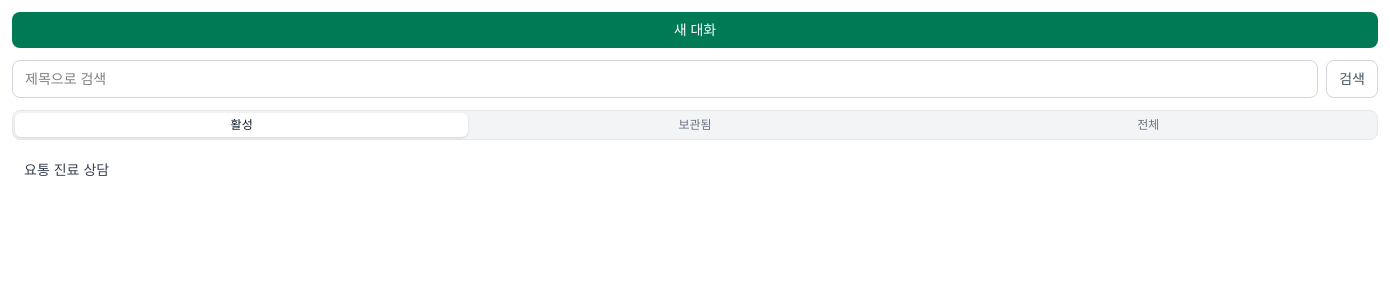
Test: ConversationList docs/specs/11 개정 수용 기준 6~9 › 기준 7: 선택한 대화의 이름을 변경한다
Click the button "요통 진료 상담": (67, 170) left=12, top=152, right=1378, bottom=188
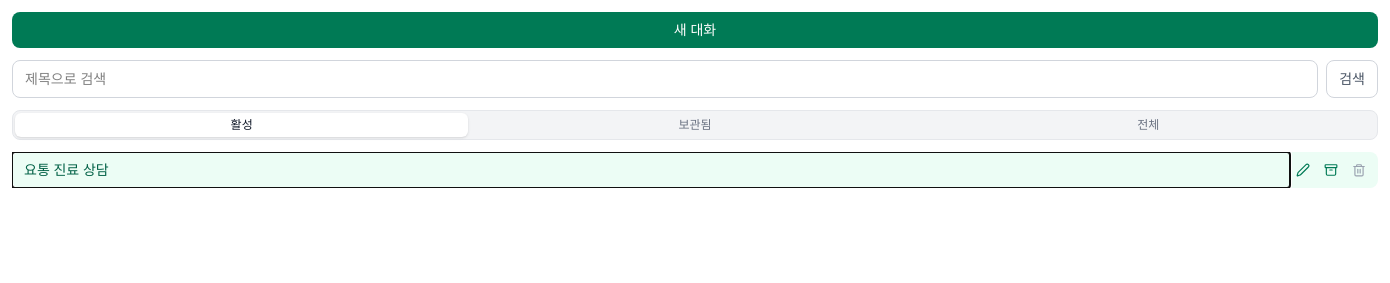
Click the button named "이름 변경": (1303, 170) left=1290, top=157, right=1316, bottom=183
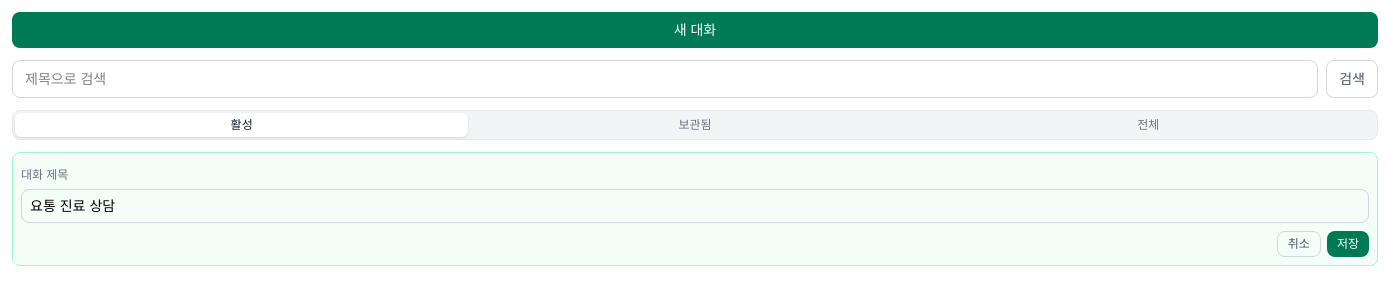
Replace the text in the field labelled "대화 제목" with "수정된 상담 제목": (695, 206) left=21, top=189, right=1369, bottom=223
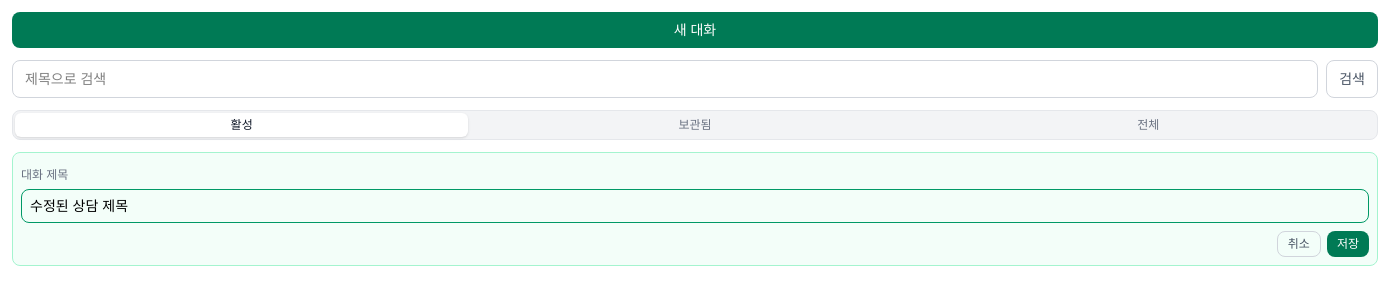
Click the button "저장": (1348, 244) left=1327, top=231, right=1369, bottom=257
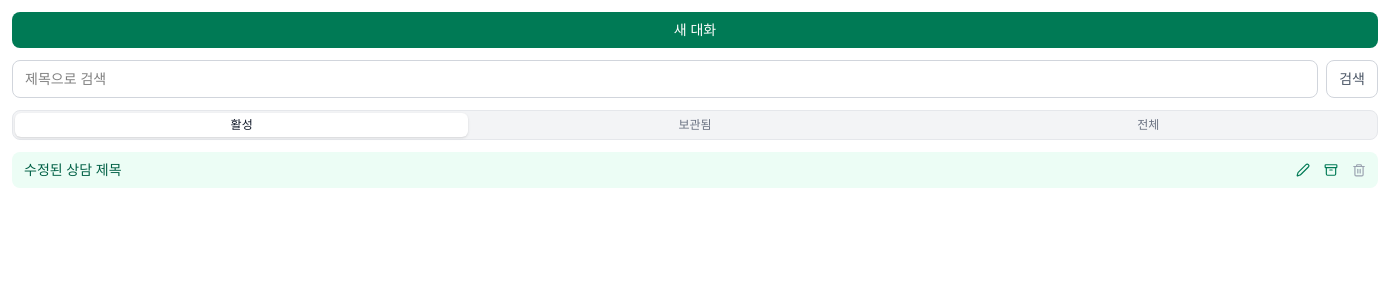
Now the button "수정된 상담 제목" is shown, box left=12, top=152, right=1290, bottom=188
